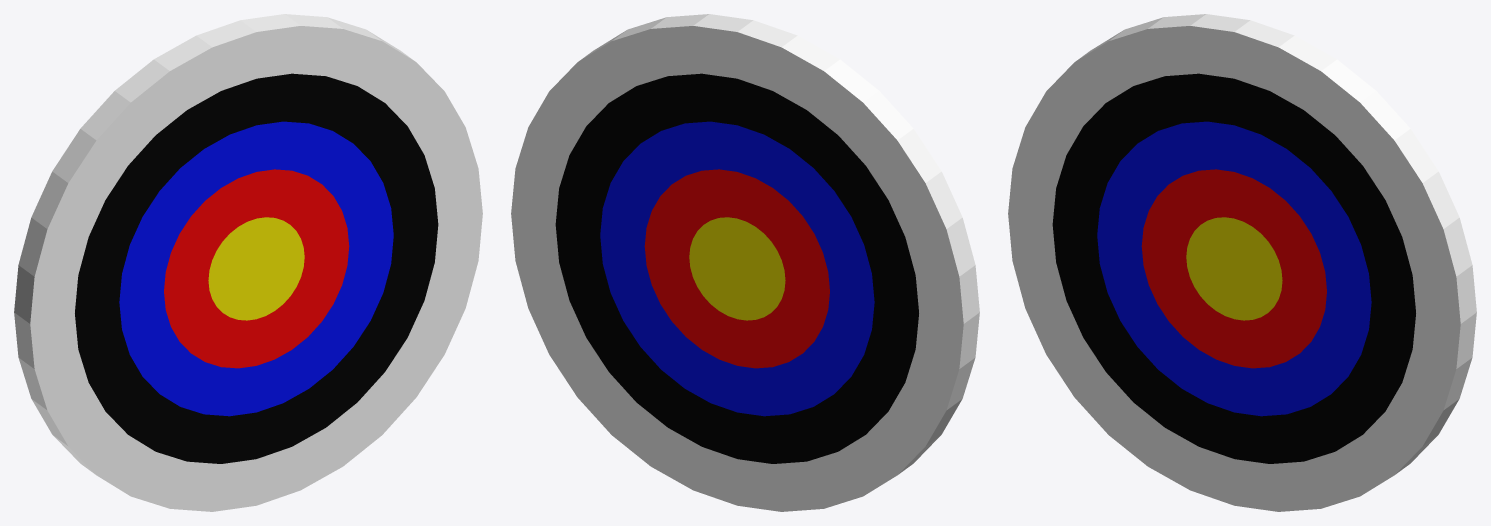
The model's file is Boss_Target_Ver1.0.fbx.
The picture shows the model from 3 angles, left to right: view 1: azimuth 30°, elevation 25°; view 2: azimuth 150°, elevation 25°; view 3: azimuth 330°, elevation 25°; orthographic projection.
Visible parts, largest first — view 1: 円柱; view 2: 円柱; view 3: 円柱.
Boxes of the visible parts, bbox=[...] form: 円柱: bbox=[14, 14, 482, 511]; 円柱: bbox=[511, 14, 979, 511]; 円柱: bbox=[1008, 14, 1476, 511].
Size of the model in its own units: 274 by 274 by 16.94.
